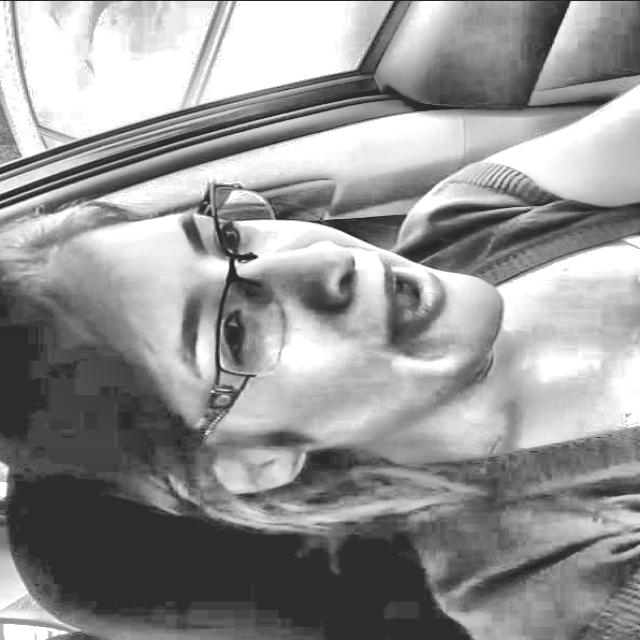open_eyes: (205, 299, 279, 377), (203, 204, 265, 267)
open_mouth: (364, 241, 460, 366)
